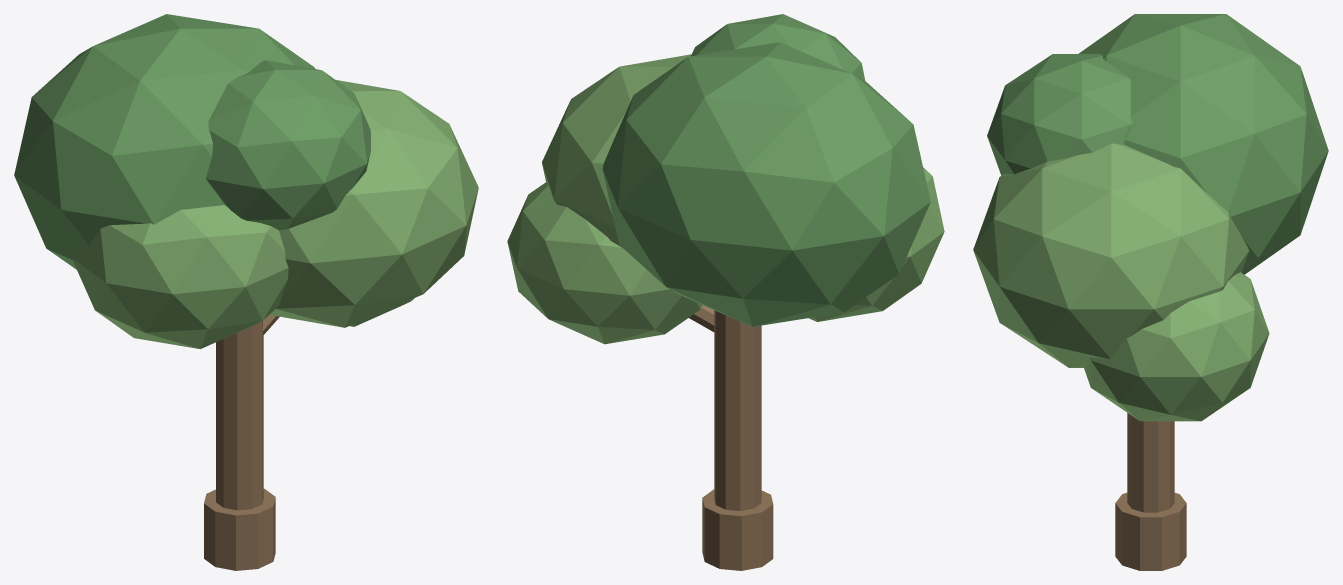
File: SM_Tree_Broadleaf_B.fbx
The picture shows the model from 3 angles, left to right: view 1: azimuth 30°, elevation 25°; view 2: azimuth 150°, elevation 25°; view 3: azimuth 270°, elevation 25°; orthographic projection. The views are drawn at different scales.
Parts seen in each view (by area): view 1: SM_Tree_Broadleaf_B; view 2: SM_Tree_Broadleaf_B; view 3: SM_Tree_Broadleaf_B.
Boxes of the visible parts, left/top/right/bottom form: SM_Tree_Broadleaf_B: left=14, top=14, right=478, bottom=570; SM_Tree_Broadleaf_B: left=507, top=14, right=944, bottom=570; SM_Tree_Broadleaf_B: left=973, top=14, right=1328, bottom=570.
Bounding box in the file's own units: 2.23 × 2.85 × 1.8.
